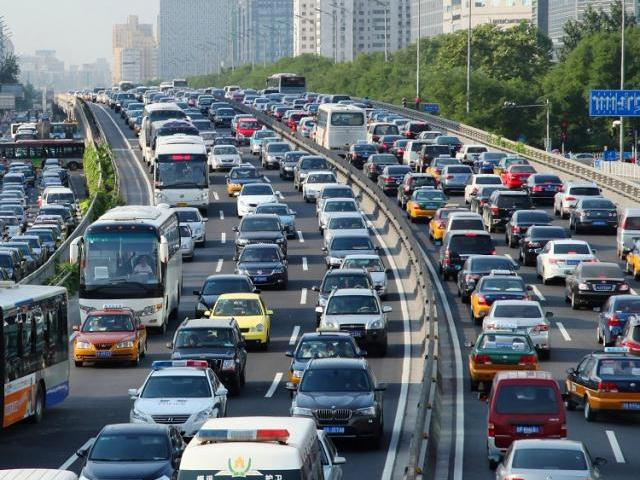bus: (0, 275, 75, 474), (69, 205, 190, 324), (150, 131, 216, 217), (312, 100, 378, 162), (263, 70, 307, 100)
